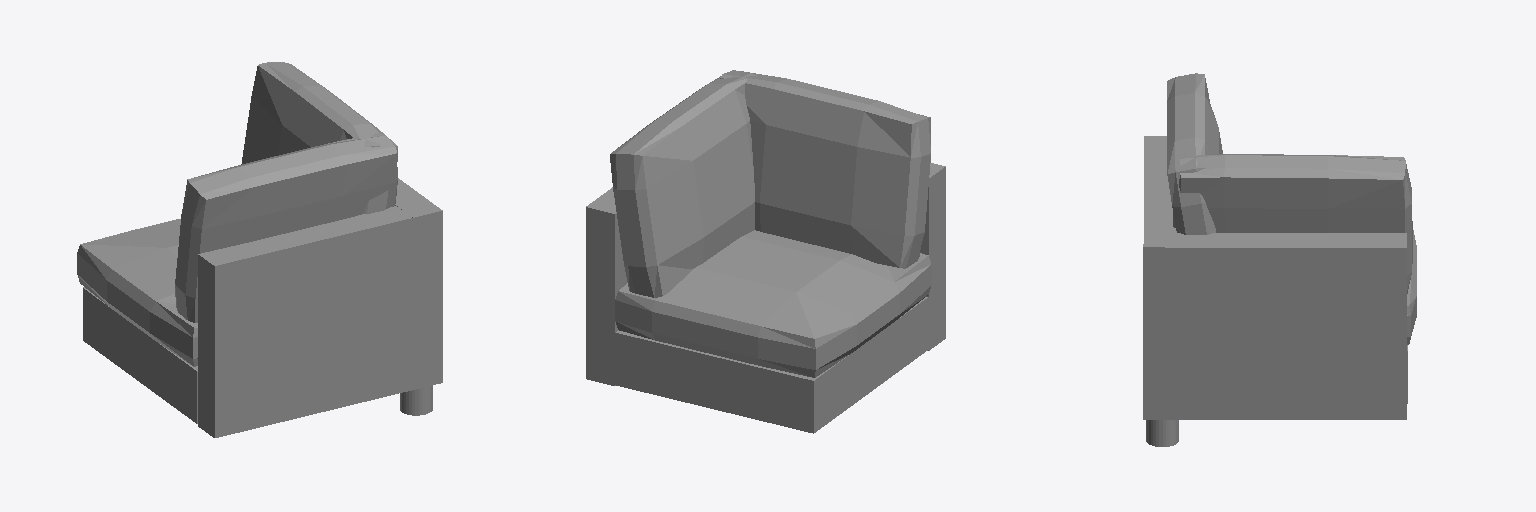
The model's file is simple_sofa_4.obj.
3 views of the same model, side by side, from view 1: azimuth 30°, elevation 25°; view 2: azimuth 150°, elevation 25°; view 3: azimuth 270°, elevation 25° (orthographic).
Visible parts, largest first — view 1: Cube.004; view 2: Cube.004; view 3: Cube.004.
Boxes of the visible parts, x1,y1,x2,y2 form: Cube.004: [77, 62, 442, 437]; Cube.004: [586, 70, 945, 433]; Cube.004: [1143, 73, 1416, 446].
Size of the model in its own units: 2.05 by 2.21 by 2.03.